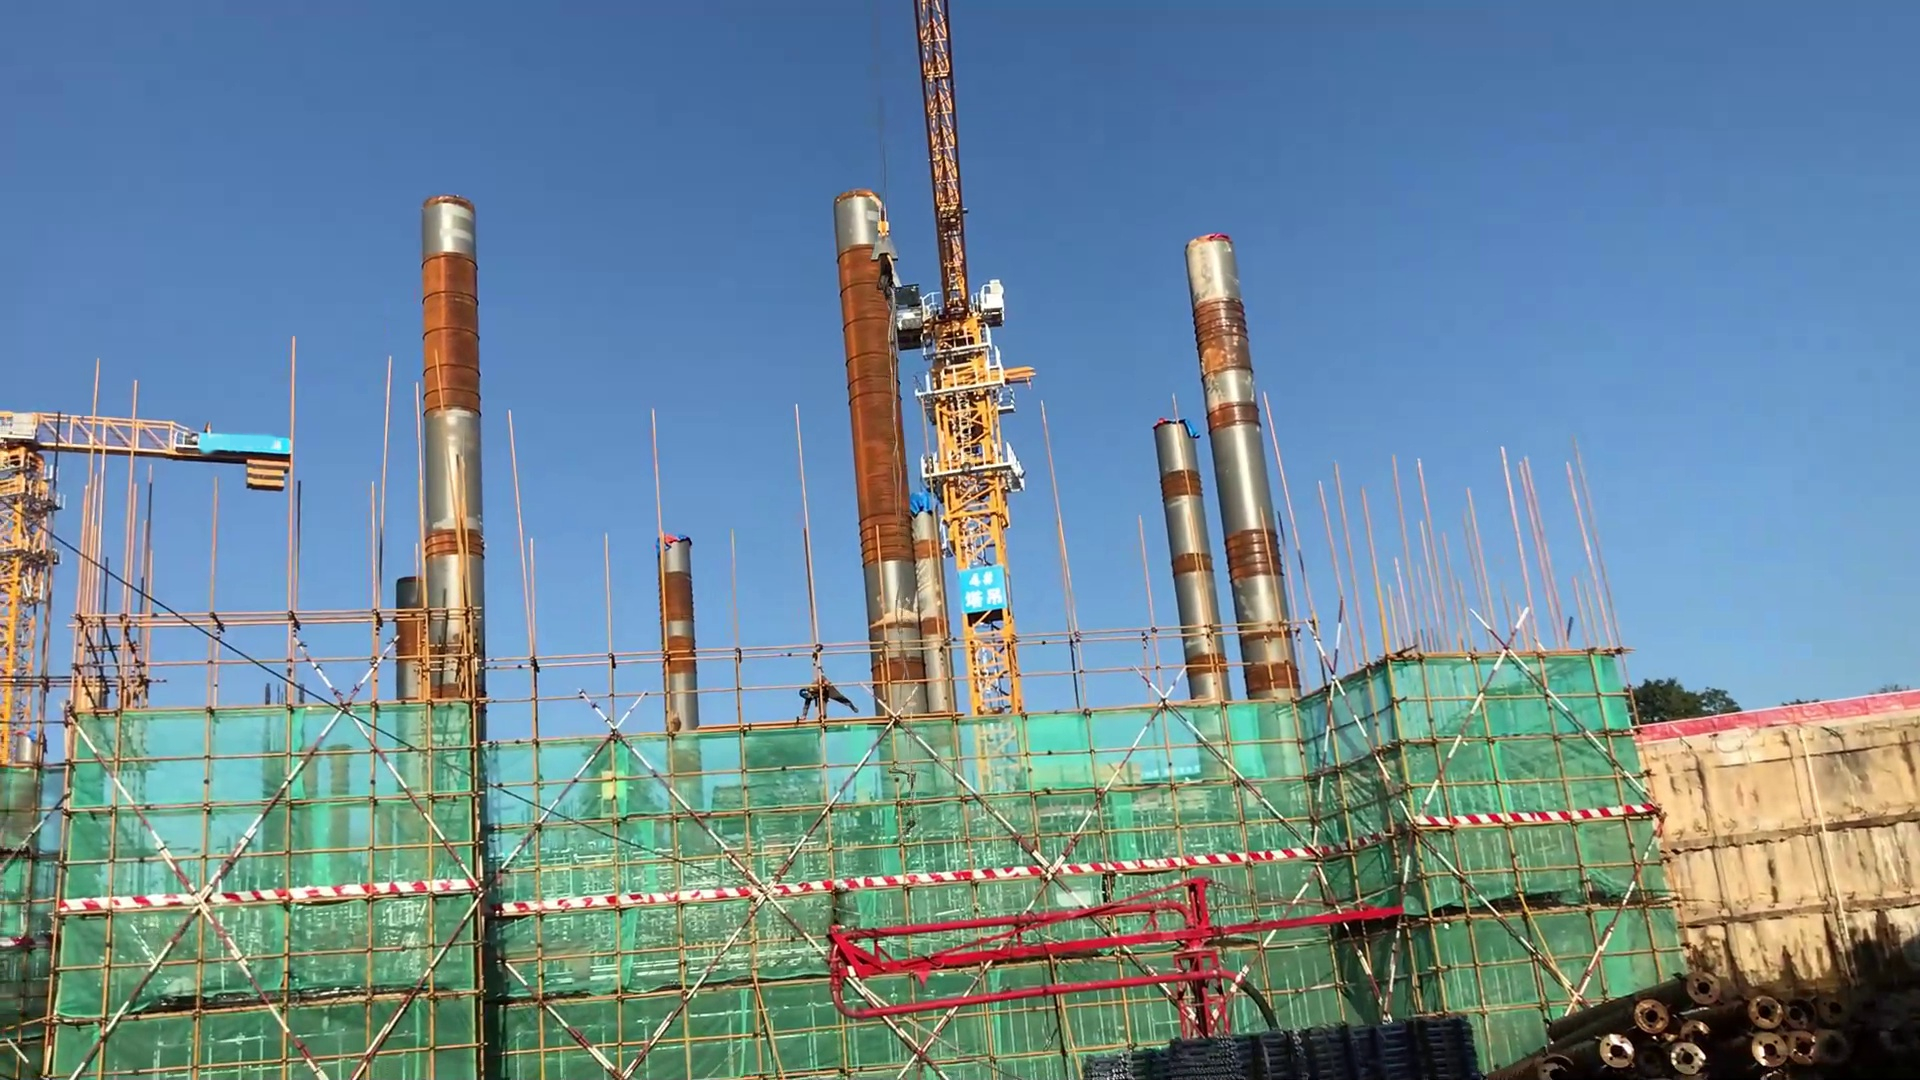helmet: (797, 688, 808, 704)
hook: (837, 200, 964, 333)
person: (794, 664, 864, 722)
